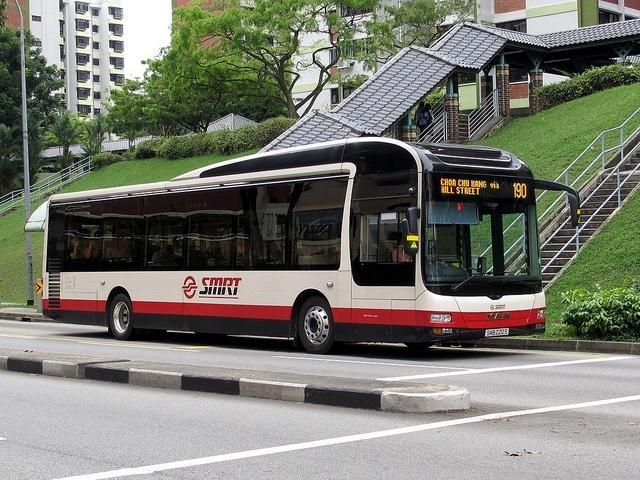bus: (21, 138, 582, 354)
